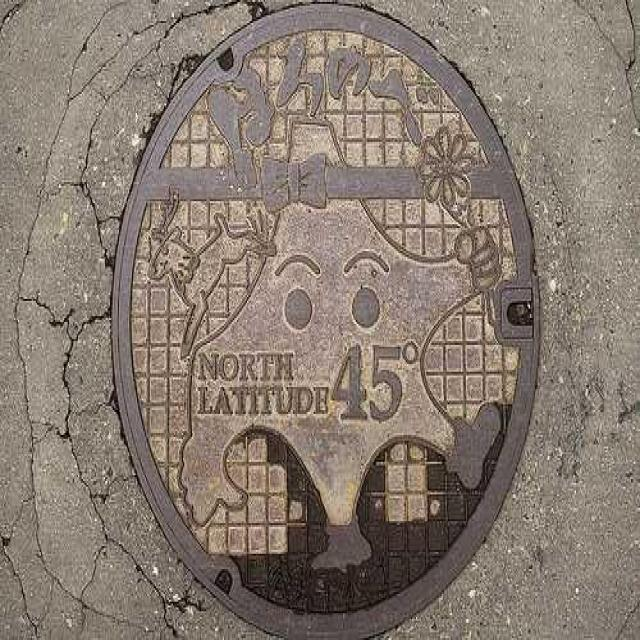manhole: (113, 4, 539, 637)
